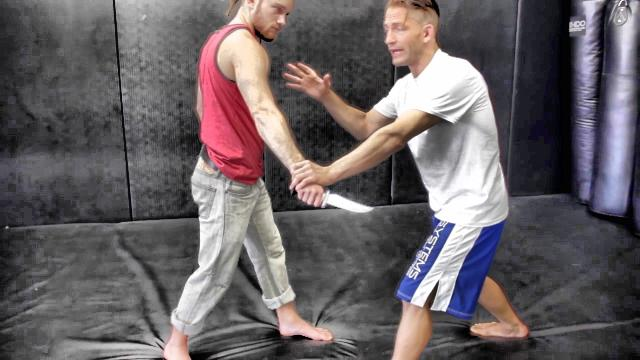knife: (289, 186, 377, 218)
